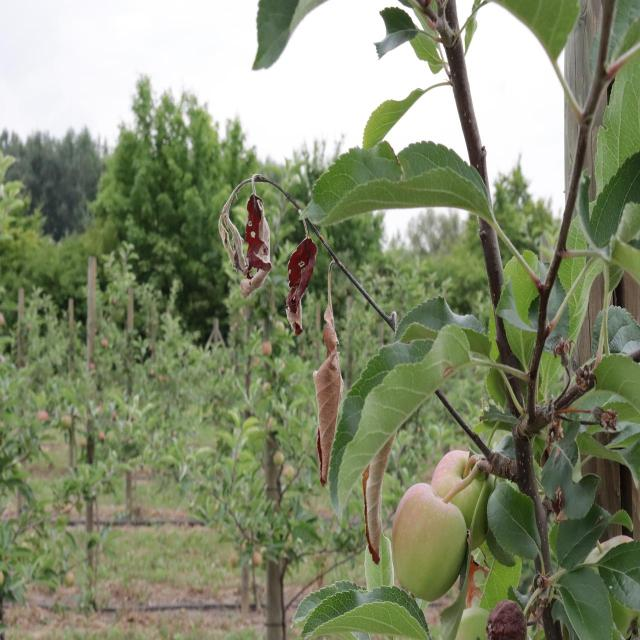-FireBlight-: (221, 176, 397, 488)
